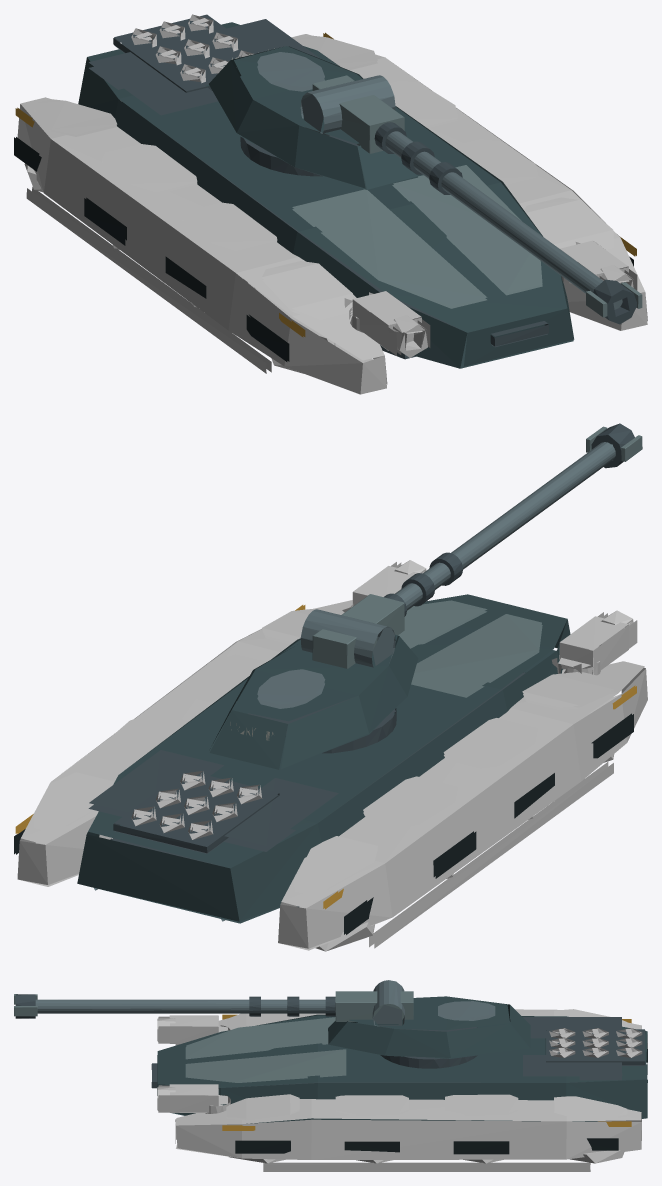
The model's file is mork_hover_tank_d0_lod2.glb.
The picture shows the model from 3 angles, top to bottom: view 1: azimuth 30°, elevation 25°; view 2: azimuth 150°, elevation 25°; view 3: azimuth 270°, elevation 25°; orthographic projection. The views are drawn at different scales.
Visible parts, largest first — view 1: DISTANCE_GEOMETRY; view 2: DISTANCE_GEOMETRY; view 3: DISTANCE_GEOMETRY.
Part boxes in pixels (box(x1,y1,x2,y2)): DISTANCE_GEOMETRY: box(14, 14, 647, 394); DISTANCE_GEOMETRY: box(14, 423, 647, 951); DISTANCE_GEOMETRY: box(14, 980, 647, 1171).
Size of the model in its own units: 5.82 by 2.82 by 13.27.
